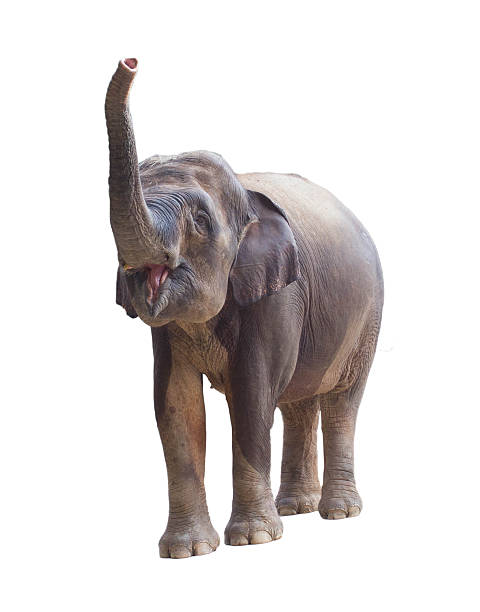africanelephant: (80, 65, 242, 345)
